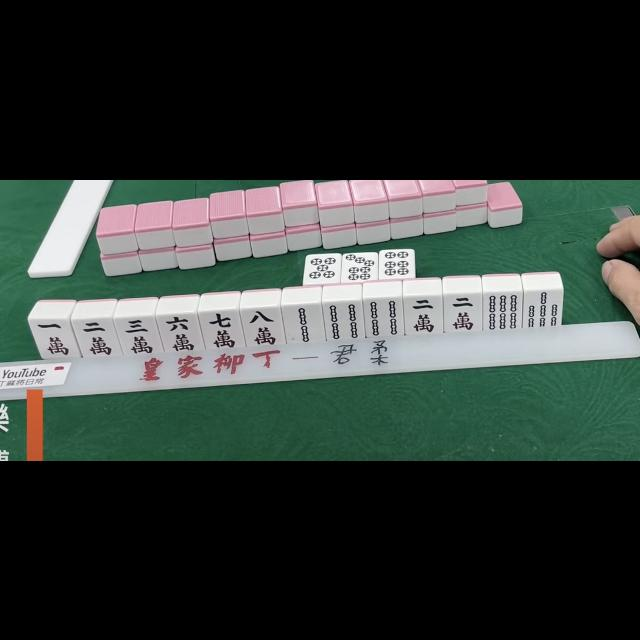b2: (286, 303, 322, 343)
b4: (324, 300, 364, 340), (363, 296, 403, 334)
b6: (484, 292, 520, 331)
b7: (522, 288, 562, 326)
c1: (34, 317, 74, 358)
c2: (77, 317, 116, 357), (445, 292, 481, 332), (405, 296, 441, 334)
c3: (120, 316, 158, 358)
c6: (163, 313, 200, 353)
c7: (204, 310, 242, 348)
c8: (244, 306, 284, 346)
d5: (306, 254, 338, 282)
d6: (381, 249, 414, 277)
d7: (342, 252, 378, 280)
